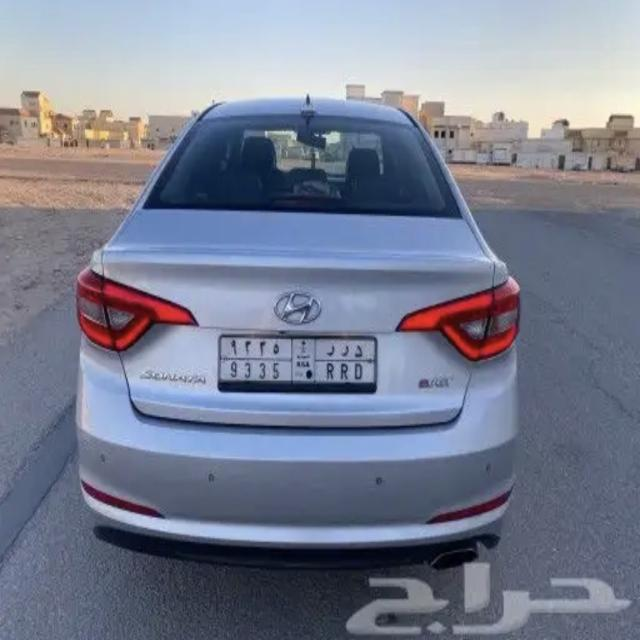license_plate: (218, 328, 379, 394)
